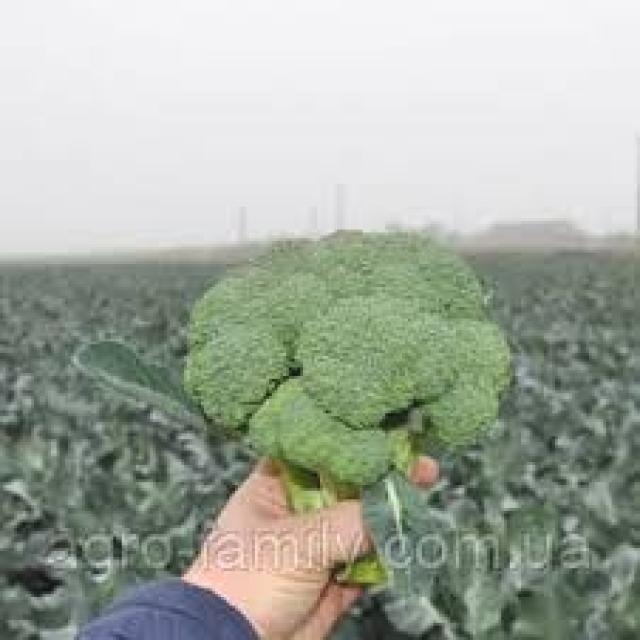broccoli: (172, 225, 537, 498)
